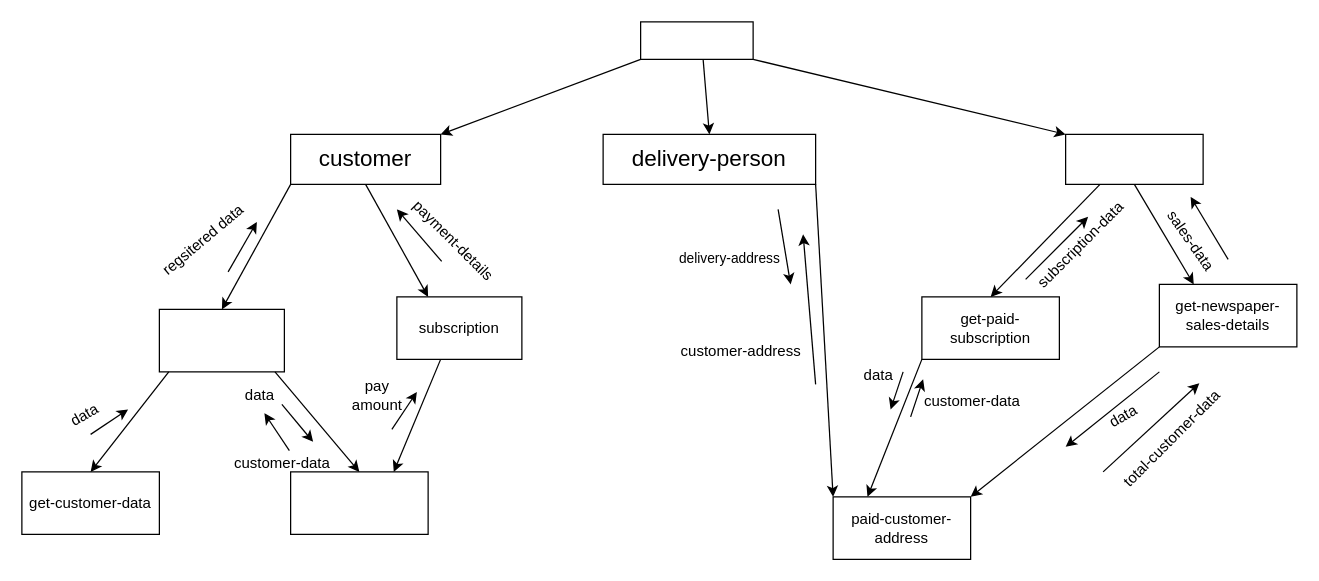
The diagram is 1319 pixels wide and 581 high, and some of its shapes have lost their labels. The centre of each missing label's shape, as x and y in pixels:
manager: [1133,158]
register-customer: [221,340]
root: [696,40]
validate-customer-data: [358,502]
